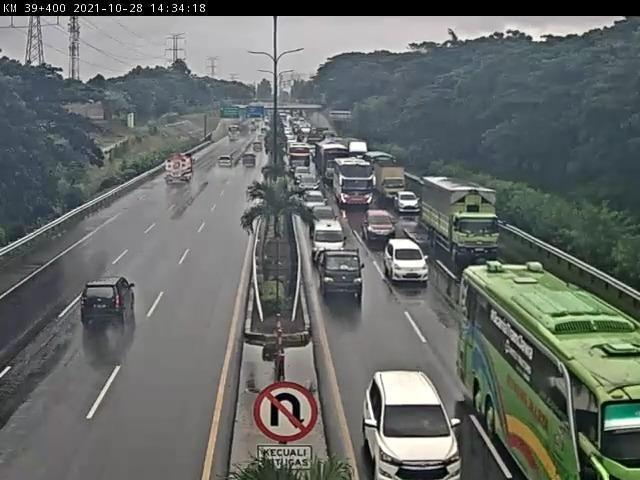Bus: (458, 259, 640, 480), (330, 154, 373, 206), (314, 142, 347, 181), (285, 143, 313, 174)
